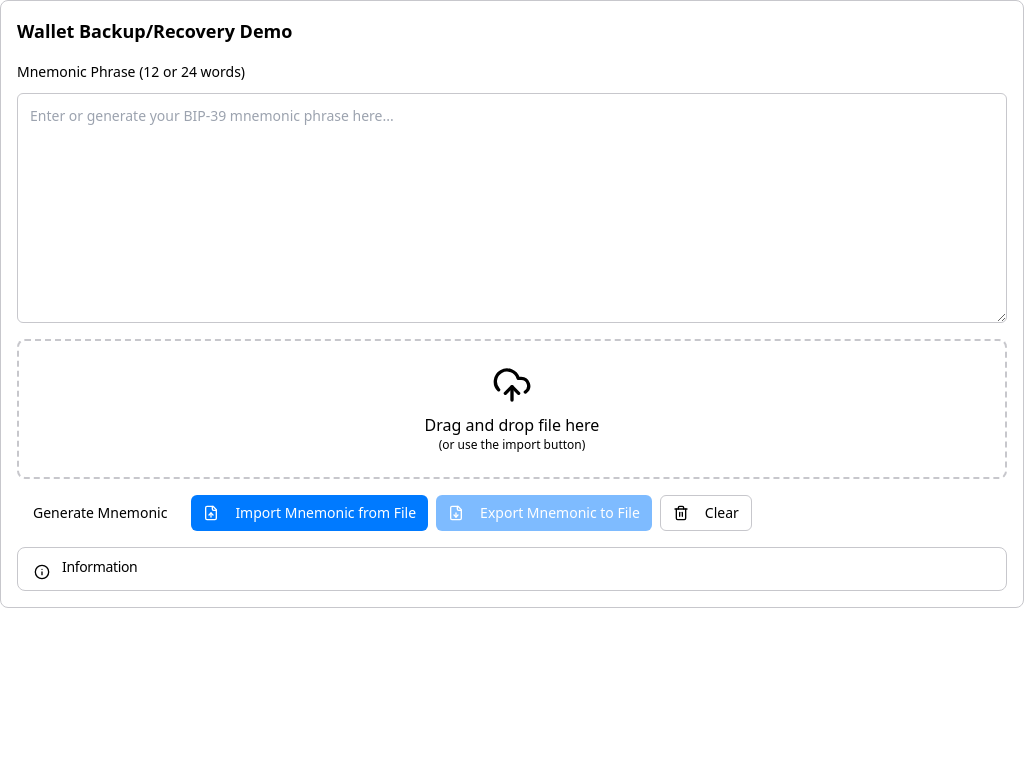
Test: WalletBackupDemoCard Component › should render enabled controls when file system is available
Expected: the button with test id "generate-button" is enabled, 17,495 -> 183,531
Expected: the button with test id "import-mnemonic-button" is enabled, 191,495 -> 428,531
Note: Simulate typing to enable export
Type "test mnemonic twelve words minimum required" into the text box with test id "mnemonic-input" at (512, 208), box 18,94 -> 1006,322
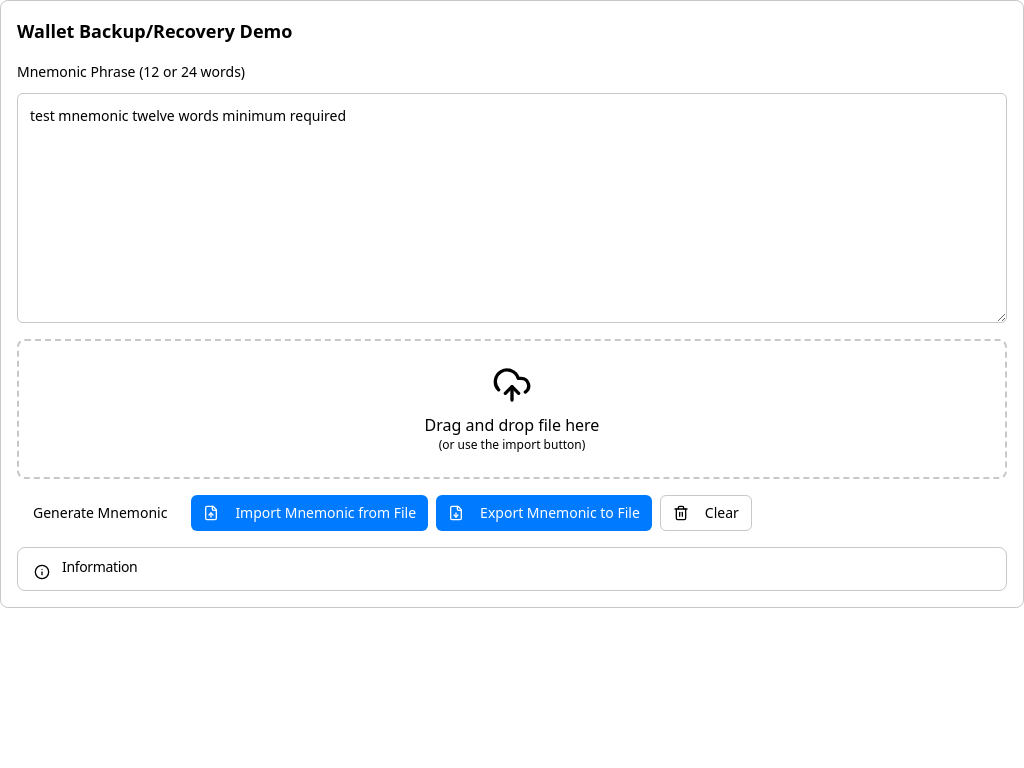
Expected: the button with test id "export-mnemonic-button" is enabled, 436,495 -> 652,531
